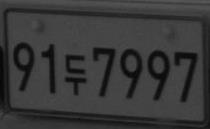1: (38, 42, 62, 93)
7: (173, 51, 199, 102), (91, 46, 116, 97)
9: (119, 47, 143, 99), (146, 49, 170, 101), (12, 40, 35, 92)
두: (63, 53, 87, 96)
